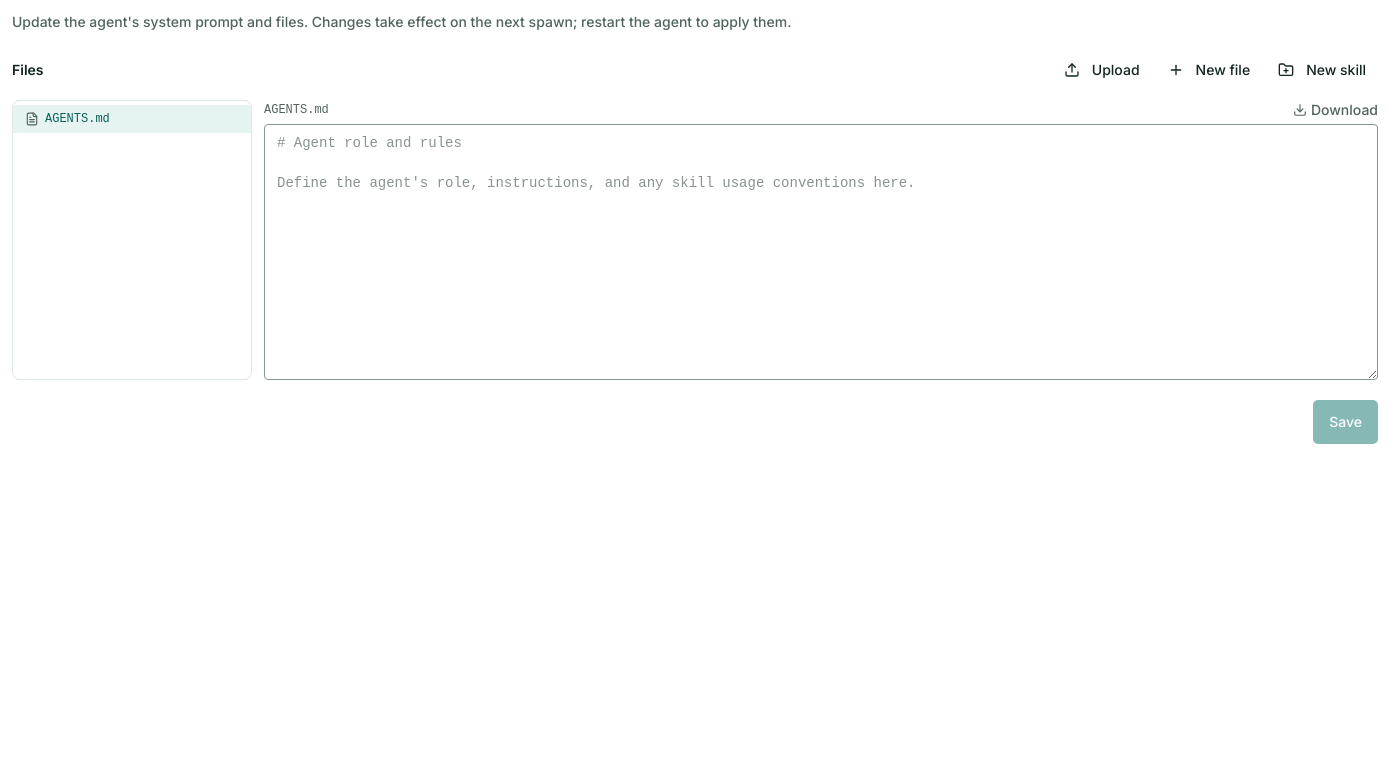
ManifestPanel — New skill action (Issue #112) › creates skills/<slug>/SKILL.md with a frontmatter template
# Open the New skill form.
Click the button with test id "agent-edit-toggle-new-skill". click: click(1322, 70)
box: [1266,48,1378,92]
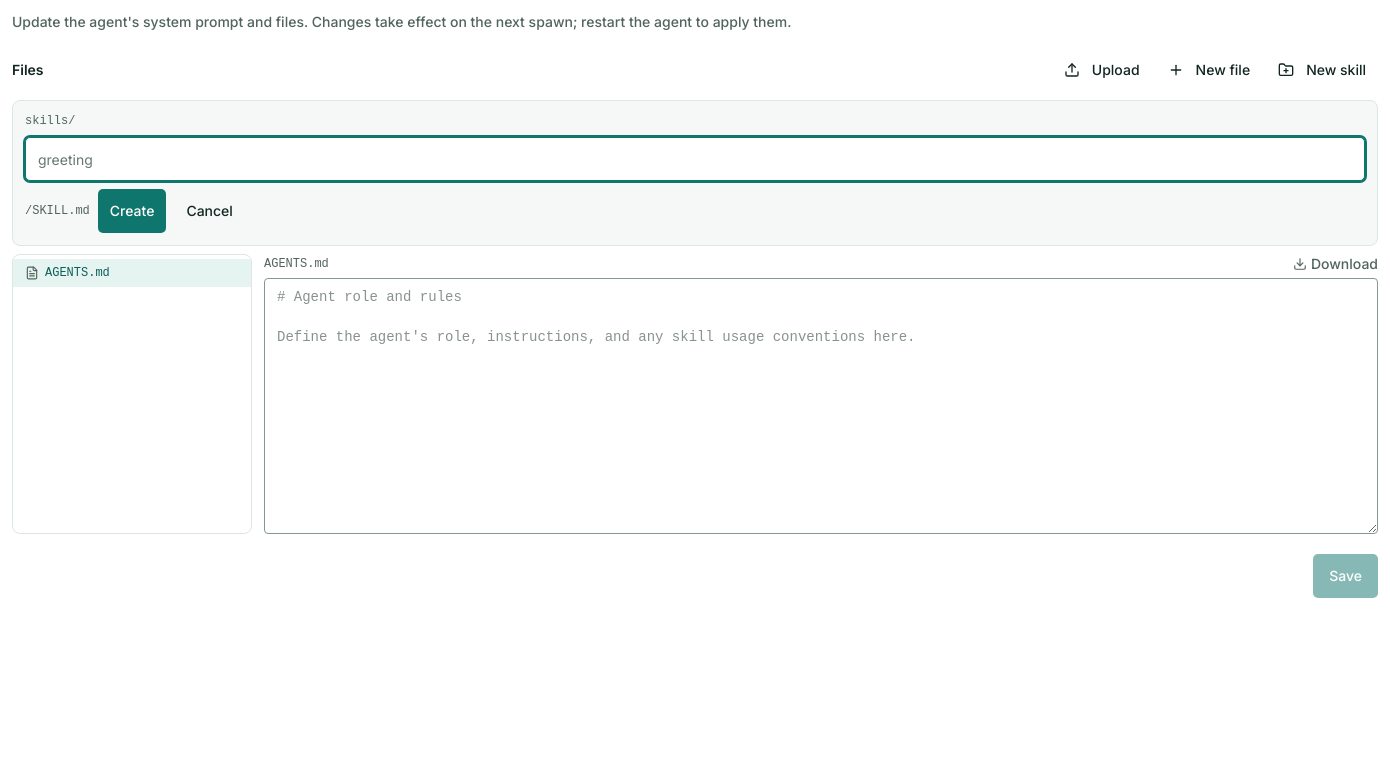
Type "Code Review" into the field with test id "agent-edit-new-skill-name". click: (695, 159)
box: [25,137,1365,181]
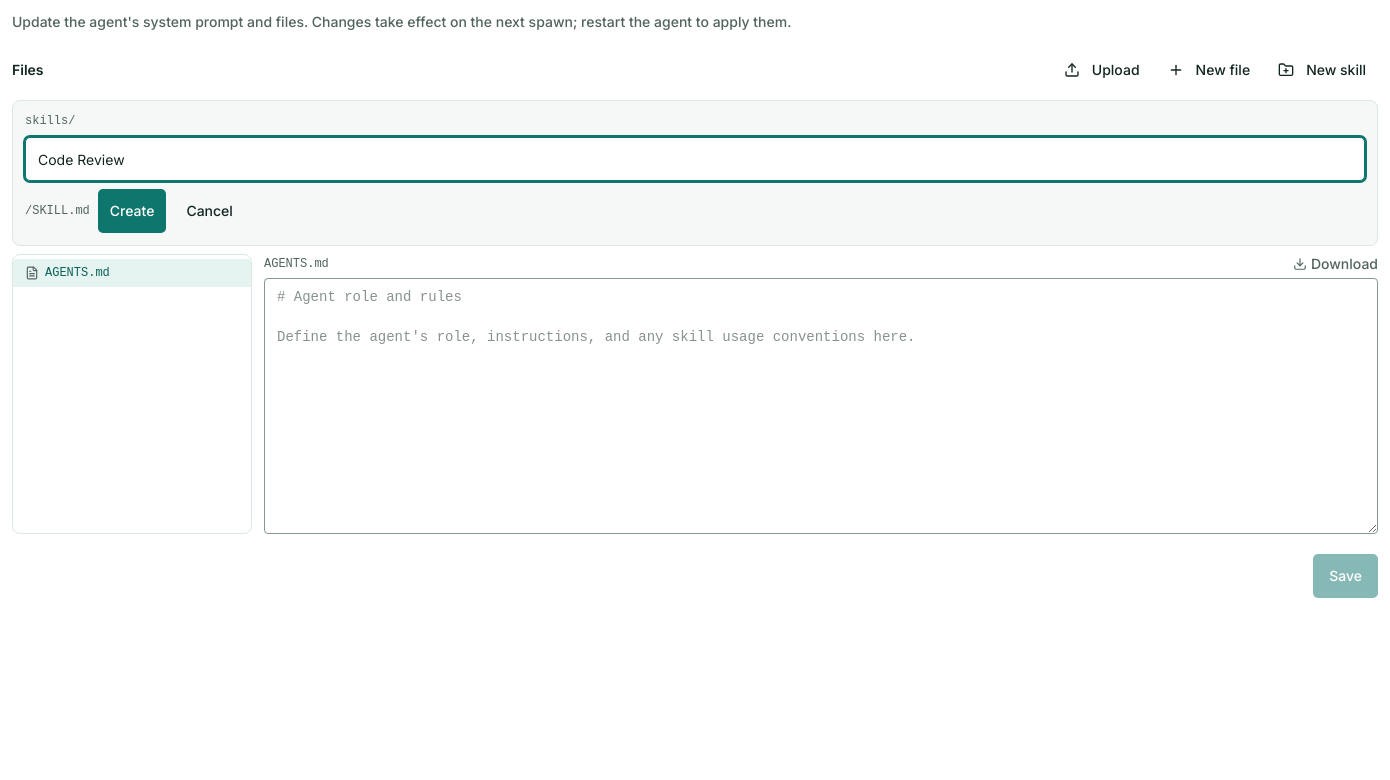
Click the button with test id "agent-edit-create-skill". click: click(132, 211)
box: [98,189,166,233]
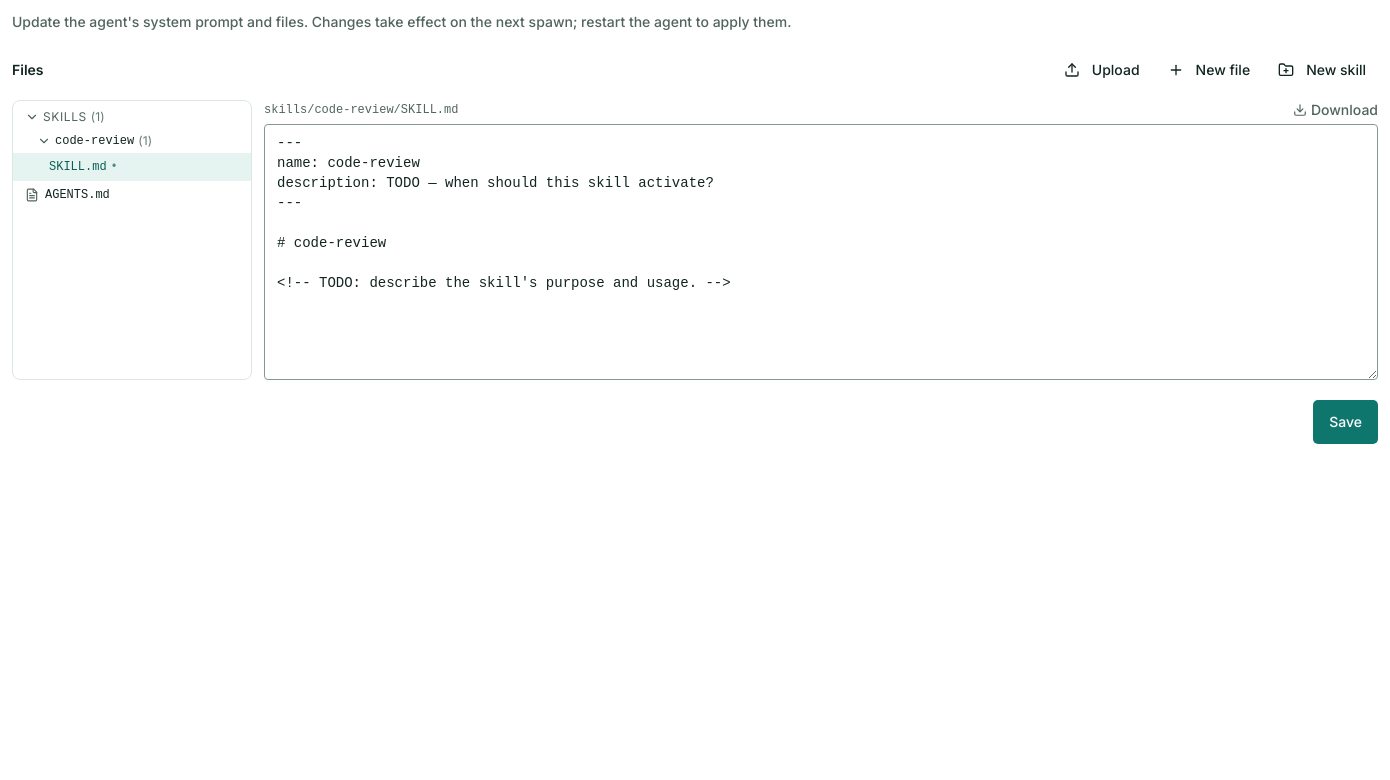
Expected: the button with test id "agent-edit-file-skills/code-review/SKILL.md" is shown, [13,153,225,181]
